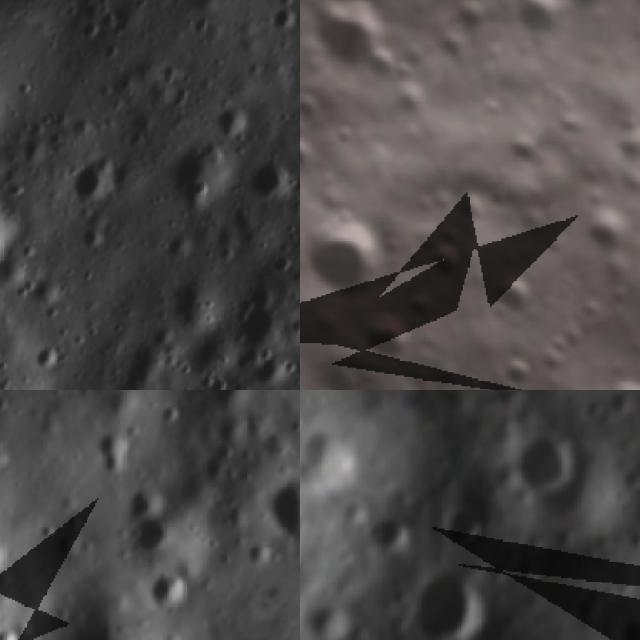crater: (300, 182, 418, 317), (301, 0, 414, 93), (146, 127, 245, 229), (210, 271, 299, 362), (51, 136, 138, 225), (346, 302, 432, 388), (410, 568, 504, 640), (75, 415, 151, 491), (482, 260, 556, 334), (249, 447, 300, 549), (114, 498, 184, 572), (573, 197, 640, 270), (0, 169, 35, 300), (417, 232, 484, 300), (236, 149, 300, 220), (502, 0, 582, 56), (233, 328, 300, 390), (516, 428, 570, 499), (376, 74, 437, 134), (140, 562, 198, 624), (429, 19, 486, 76), (470, 171, 526, 226), (205, 406, 259, 458), (199, 390, 262, 425), (440, 506, 497, 544), (504, 124, 548, 170), (187, 445, 231, 490), (148, 390, 192, 434), (300, 83, 333, 130), (581, 365, 640, 390), (32, 512, 68, 551), (300, 131, 325, 186), (300, 297, 316, 365), (614, 605, 640, 640), (0, 619, 29, 640)
